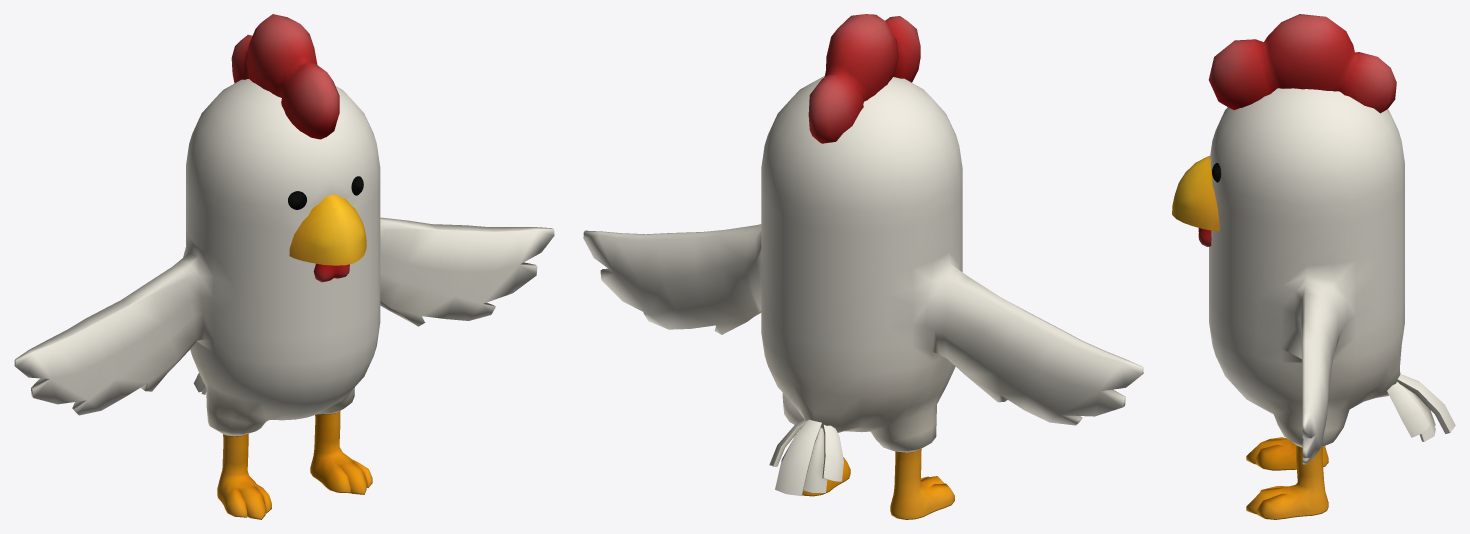
Rendered from Chicken_NoRig.obj.
3 views of the same model, side by side, from view 1: azimuth 30°, elevation 25°; view 2: azimuth 150°, elevation 25°; view 3: azimuth 270°, elevation 25° (orthographic). The views are drawn at different scales.
Visible parts, largest first — view 1: Body, Face; view 2: Body, Face; view 3: Body, Face.
Boxes of the visible parts, x1=… form: Body: x1=14, y1=79, x2=554, y2=519; Face: x1=193, y1=14, x2=366, y2=394; Body: x1=583, y1=75, x2=1143, y2=519; Face: x1=769, y1=14, x2=920, y2=495; Body: x1=1209, y1=88, x2=1404, y2=519; Face: x1=1172, y1=14, x2=1455, y2=441.
Bounding box in the file's own units: 209 × 173 × 94.69.
